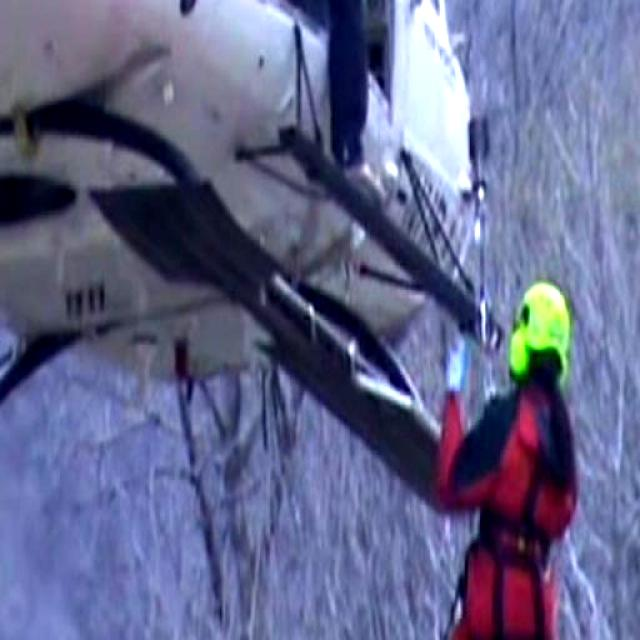drone: (0, 0, 490, 579)
